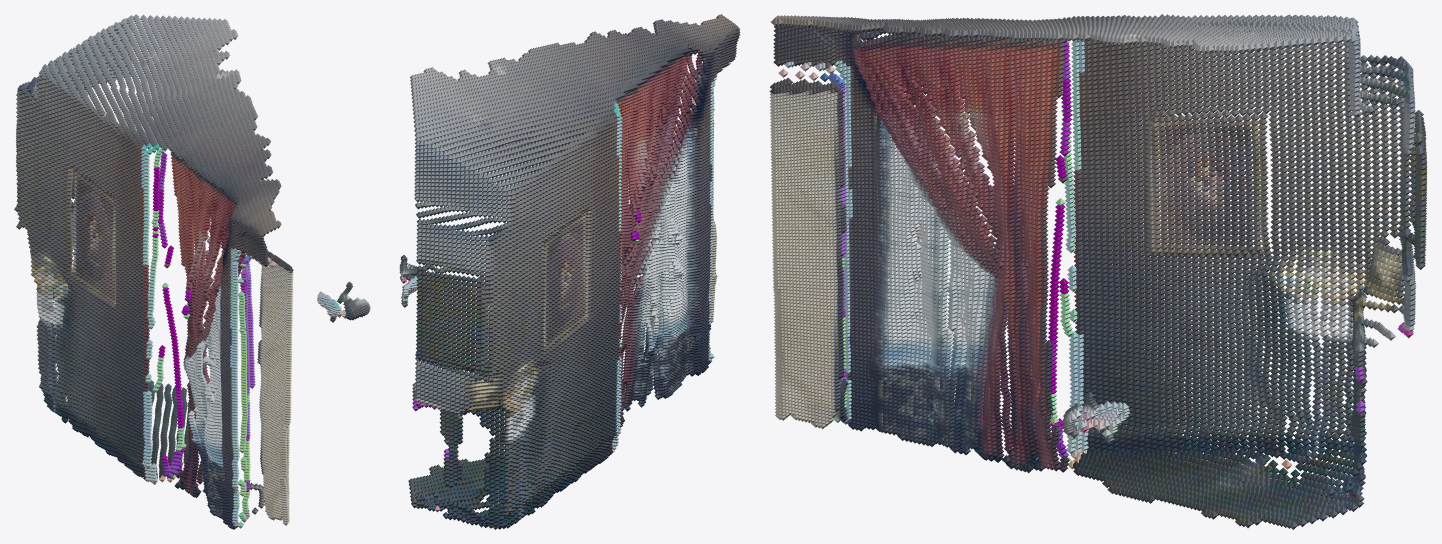
File: combine_gt.glb
3 views of the same model, side by side, from view 1: azimuth 30°, elevation 25°; view 2: azimuth 150°, elevation 25°; view 3: azimuth 270°, elevation 25° (orthographic). The views are drawn at different scales.
Parts seen in each view (by area): view 1: world; view 2: world; view 3: world.
Part boxes in pixels (<box>): world: <box>14,14,370,529</box>; world: <box>399,14,740,529</box>; world: <box>769,14,1427,529</box>.
Size of the model in its own units: 1.93 by 3.17 by 3.77.
